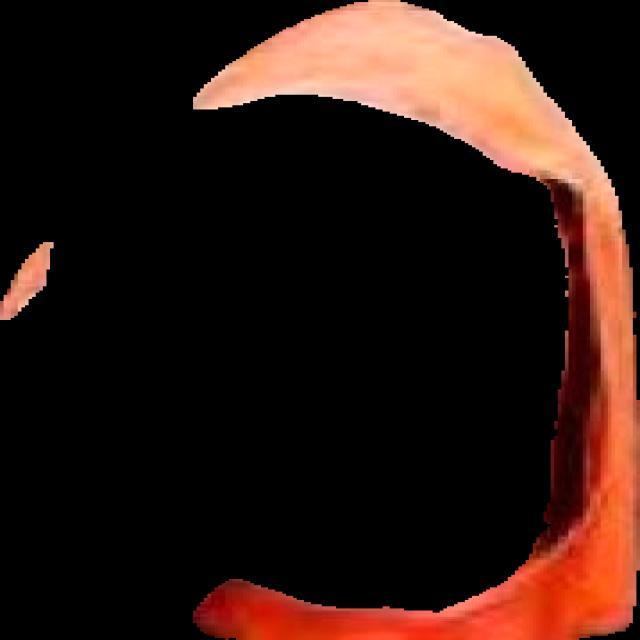Colete: (194, 0, 639, 639)
